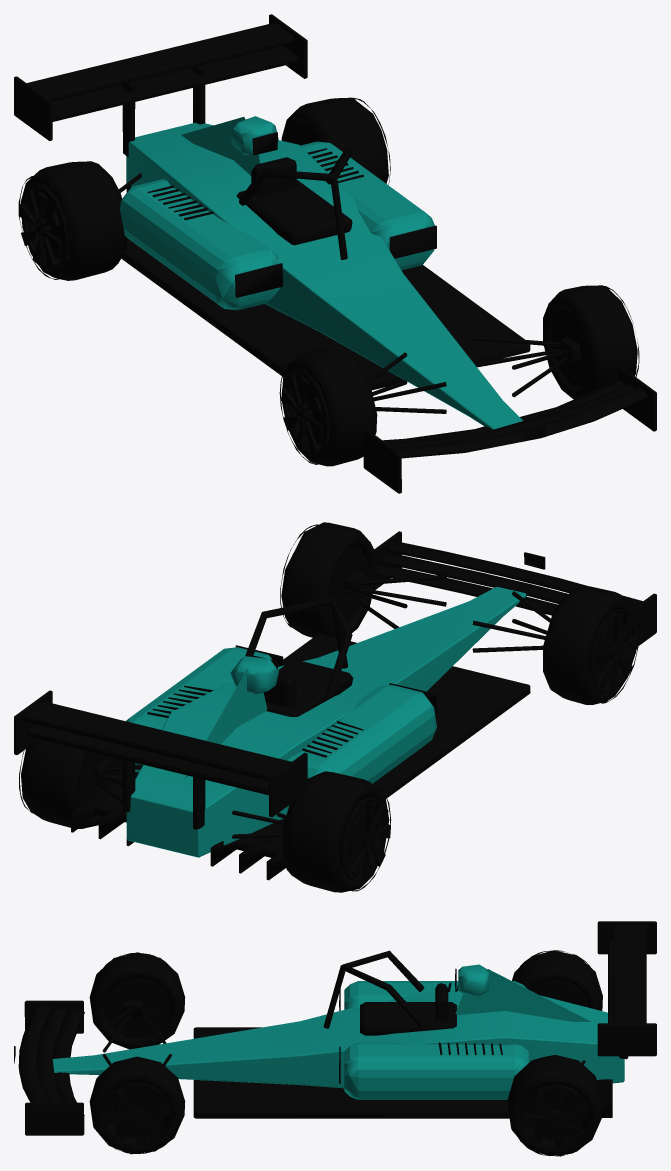
File: f1-mid.glb
The picture shows the model from 3 angles, top to bottom: view 1: azimuth 30°, elevation 25°; view 2: azimuth 150°, elevation 25°; view 3: azimuth 270°, elevation 25°; orthographic projection. The views are drawn at different scales.
Parts seen in each view (by area): view 1: chassis.001__Vehicle detail atlas, chassis.001__Automotive clearcoat, wheel_RL.001__Vehicle detail atlas, wheel_FL.001__Vehicle detail atlas, wheel_FR.001__Vehicle detail atlas, wheel_RR.001__Vehicle detail atlas; view 2: chassis.001__Vehicle detail atlas, chassis.001__Automotive clearcoat, wheel_RL.001__Vehicle detail atlas, wheel_FL.001__Vehicle detail atlas, wheel_FR.001__Vehicle detail atlas, wheel_RR.001__Vehicle detail atlas; view 3: chassis.001__Automotive clearcoat, chassis.001__Vehicle detail atlas, wheel_RR.001__Vehicle detail atlas, wheel_FR.001__Vehicle detail atlas, wheel_FL.001__Vehicle detail atlas, wheel_RL.001__Vehicle detail atlas.
Part boxes in pixels (x1,y1,x2,y2): chassis.001__Vehicle detail atlas: [14, 14, 656, 493]; chassis.001__Automotive clearcoat: [120, 116, 523, 429]; wheel_RL.001__Vehicle detail atlas: [18, 161, 126, 280]; wheel_FL.001__Vehicle detail atlas: [279, 349, 377, 466]; wheel_FR.001__Vehicle detail atlas: [543, 285, 639, 399]; wheel_RR.001__Vehicle detail atlas: [281, 97, 390, 184]; chassis.001__Vehicle detail atlas: [14, 531, 656, 880]; chassis.001__Automotive clearcoat: [126, 587, 526, 857]; wheel_RL.001__Vehicle detail atlas: [281, 771, 391, 892]; wheel_FL.001__Vehicle detail atlas: [543, 586, 639, 704]; wheel_FR.001__Vehicle detail atlas: [280, 522, 376, 637]; wheel_RR.001__Vehicle detail atlas: [19, 739, 122, 828]; chassis.001__Automotive clearcoat: [52, 964, 624, 1099]; chassis.001__Vehicle detail atlas: [14, 921, 656, 1135]; wheel_RR.001__Vehicle detail atlas: [507, 1055, 602, 1156]; wheel_FR.001__Vehicle detail atlas: [89, 1056, 185, 1154]; wheel_FL.001__Vehicle detail atlas: [89, 952, 185, 1049]; wheel_RL.001__Vehicle detail atlas: [512, 950, 602, 1010].
Size of the model in its own units: 2.39 by 1.1 by 4.85.
2 materials, 1 textured.
